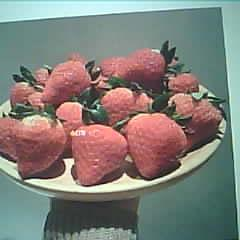straw-ripe: (127, 114, 187, 180), (72, 124, 128, 186), (16, 113, 65, 178), (42, 61, 90, 103)
